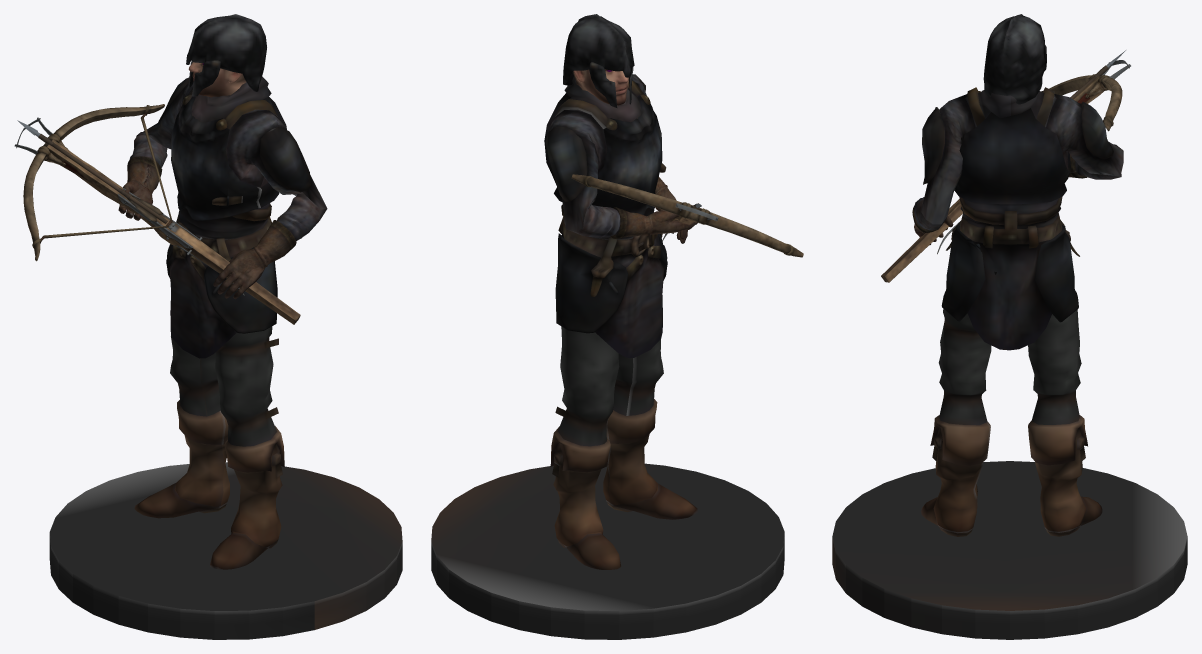
3 renders of one model, left to right at view 1: azimuth 30°, elevation 25°; view 2: azimuth 150°, elevation 25°; view 3: azimuth 270°, elevation 25°, orthographic.
Visible parts, largest first — view 1: headgroup_gatekeeper_medhelm.smd; view 2: headgroup_gatekeeper_medhelm.smd; view 3: headgroup_gatekeeper_medhelm.smd.
Boxes of the visible parts, x1=… form: headgroup_gatekeeper_medhelm.smd: x1=14, y1=14, x2=402, y2=639; headgroup_gatekeeper_medhelm.smd: x1=431, y1=14, x2=803, y2=639; headgroup_gatekeeper_medhelm.smd: x1=832, y1=14, x2=1187, y2=639.
Bounding box in the file's own units: 1.13 × 1.71 × 1.
Materials: 1 (1 with a texture image).
